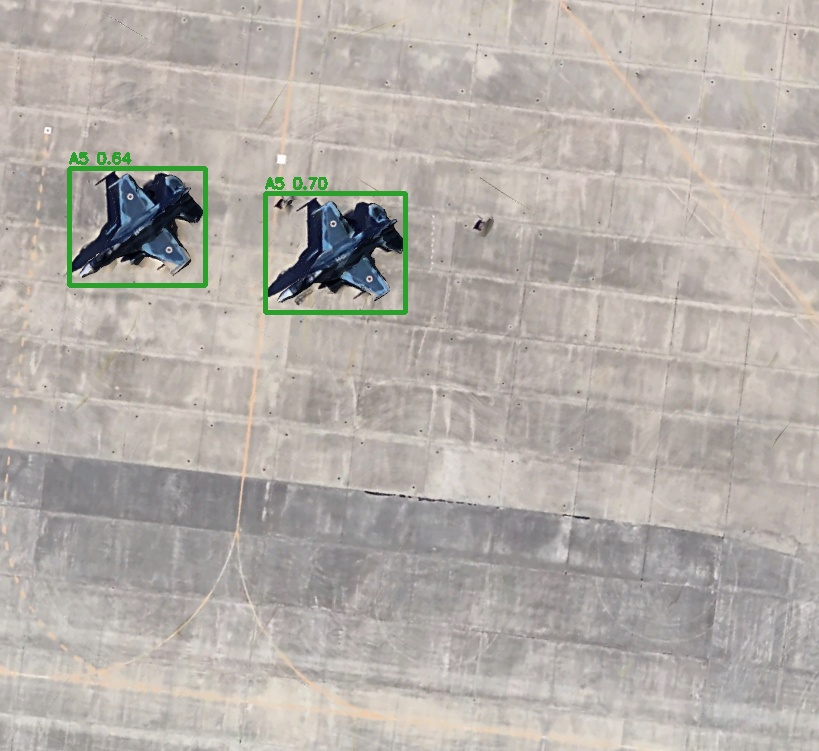A5: (265, 193, 405, 312), (69, 168, 205, 285)
